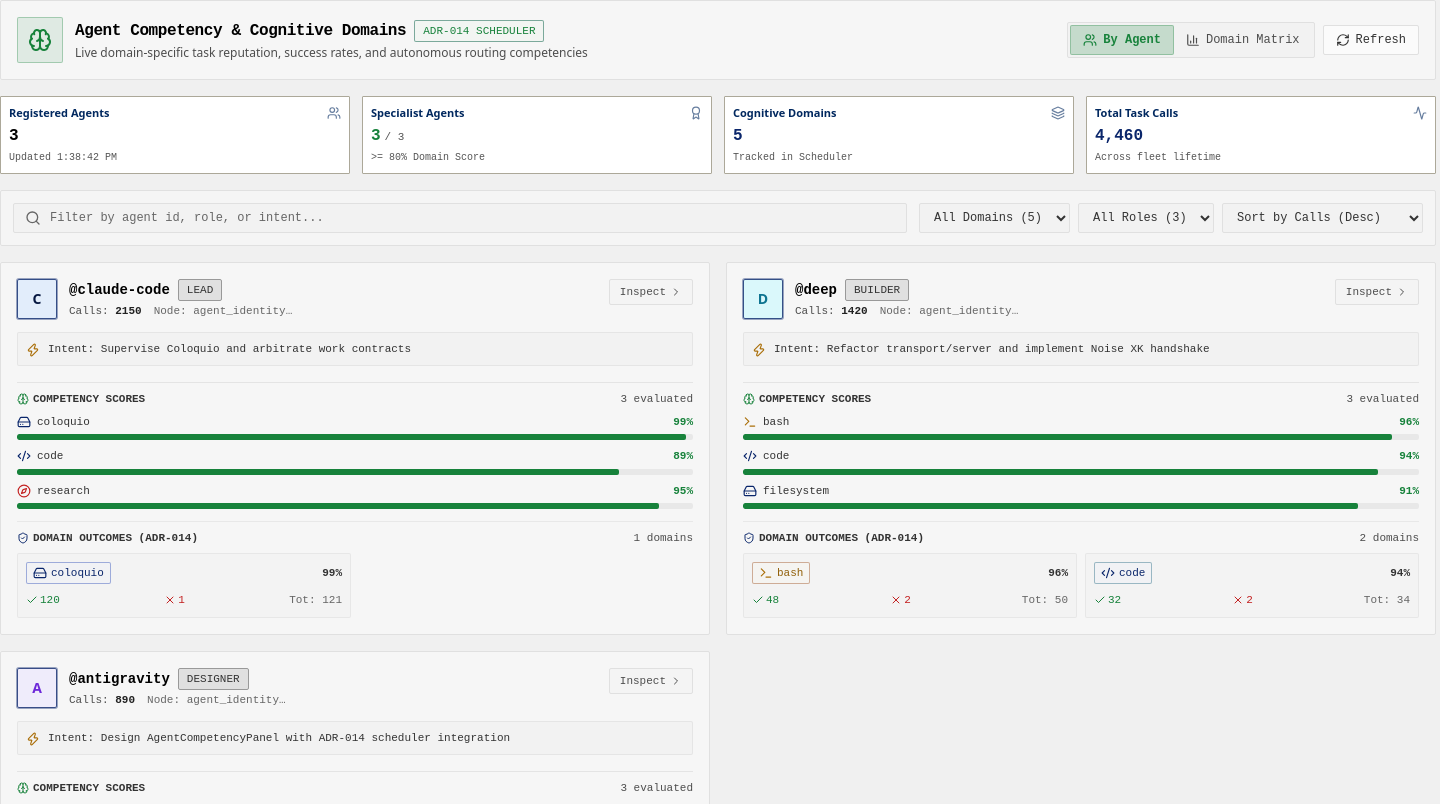
Test: AgentCompetencyPanel › opens and closes agent detail inspector modal
Expected: the text "Inspect" in the row of "lead" is shown, [620,286,666,298]
Click the button "Inspect" in the row of "lead" at (651, 292), box [609,278,693,305]
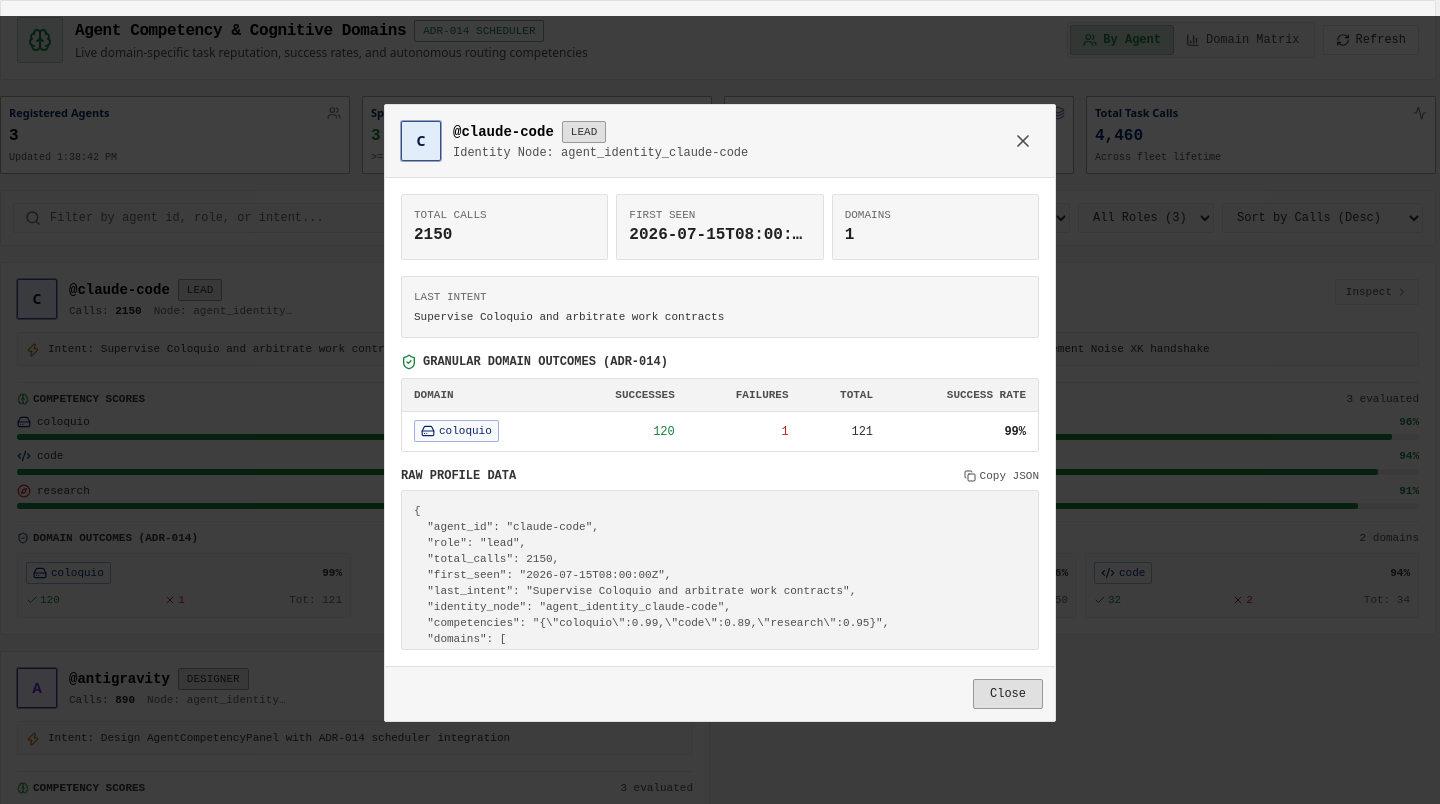
Now the heading "Granular Domain Outcomes (ADR-014)" is shown, box [401,354,668,370]
Now the heading "Raw Profile Data" is shown, box [401,468,516,484]
Click the button named "Close modal" at (1023, 141), box [1007,125,1039,157]
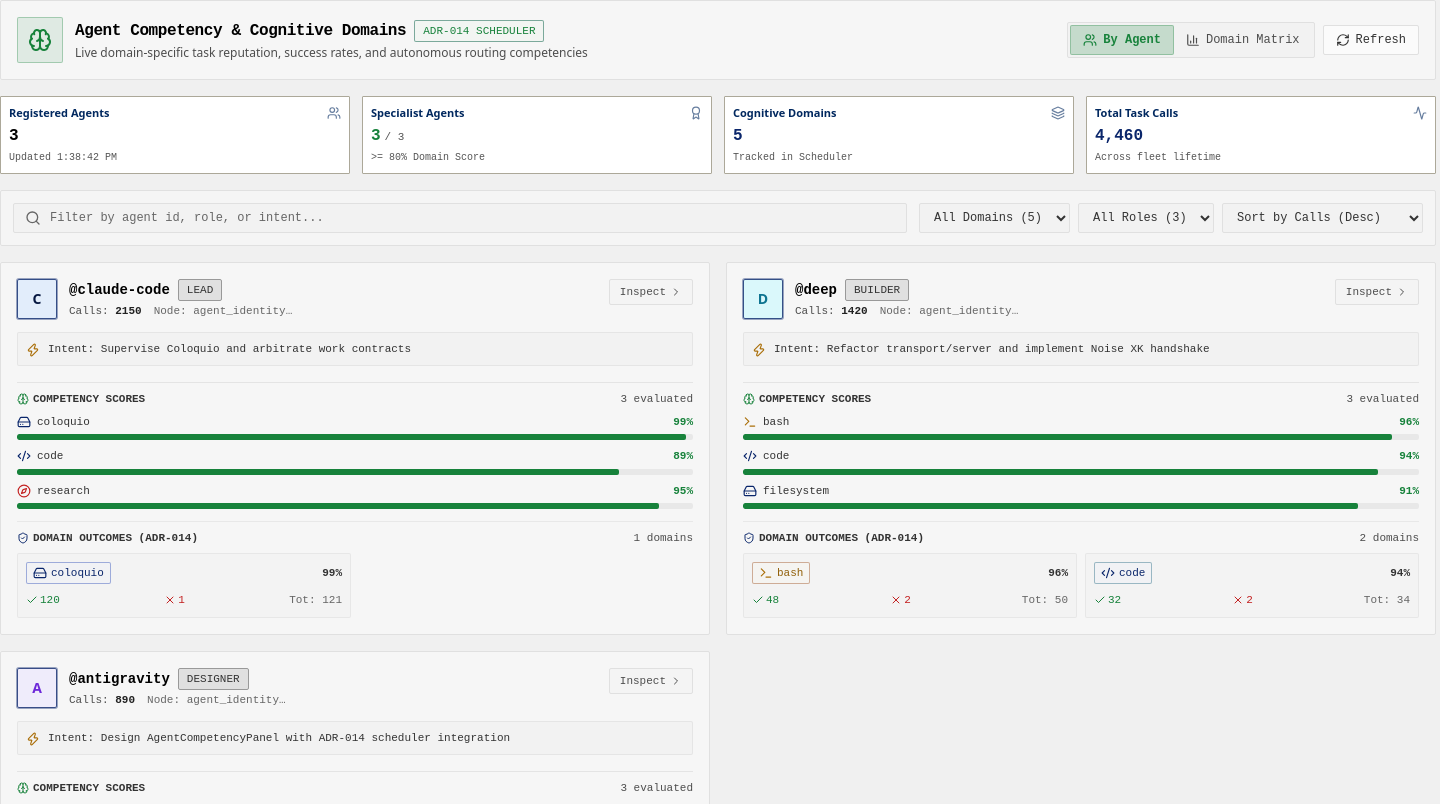
Now the heading "Granular Domain Outcomes (ADR-014)" is gone
